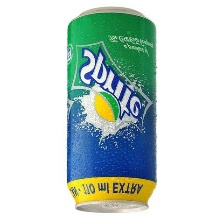can: (60, 3, 159, 215)
